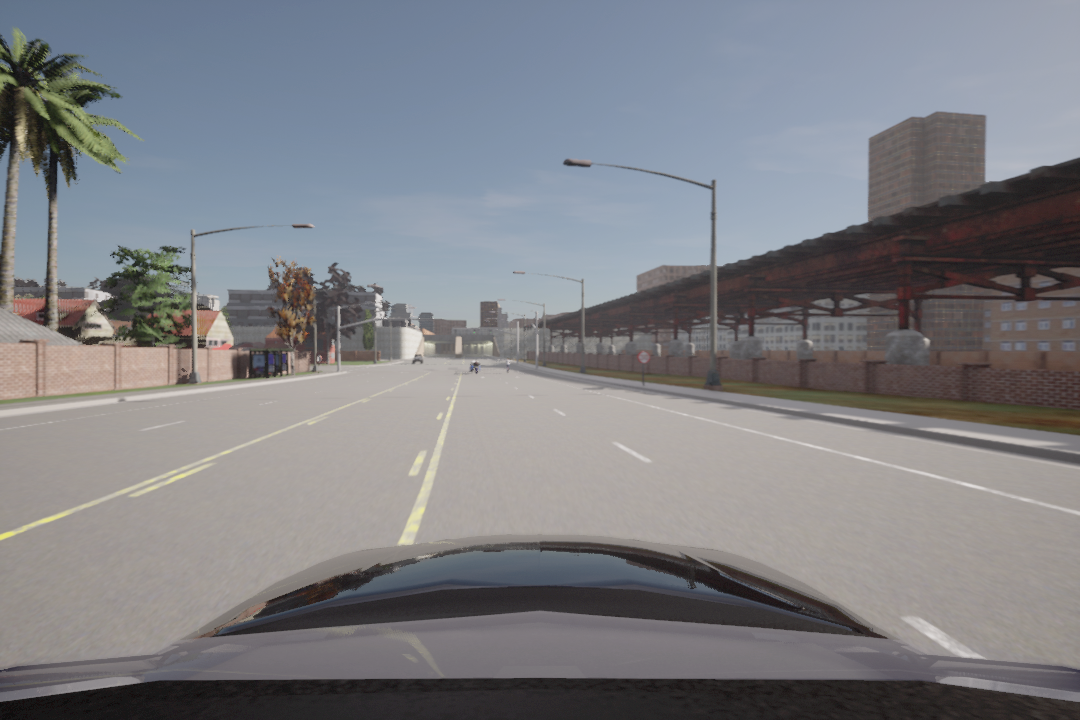TrafficSign_speed: (637, 351, 653, 365)
